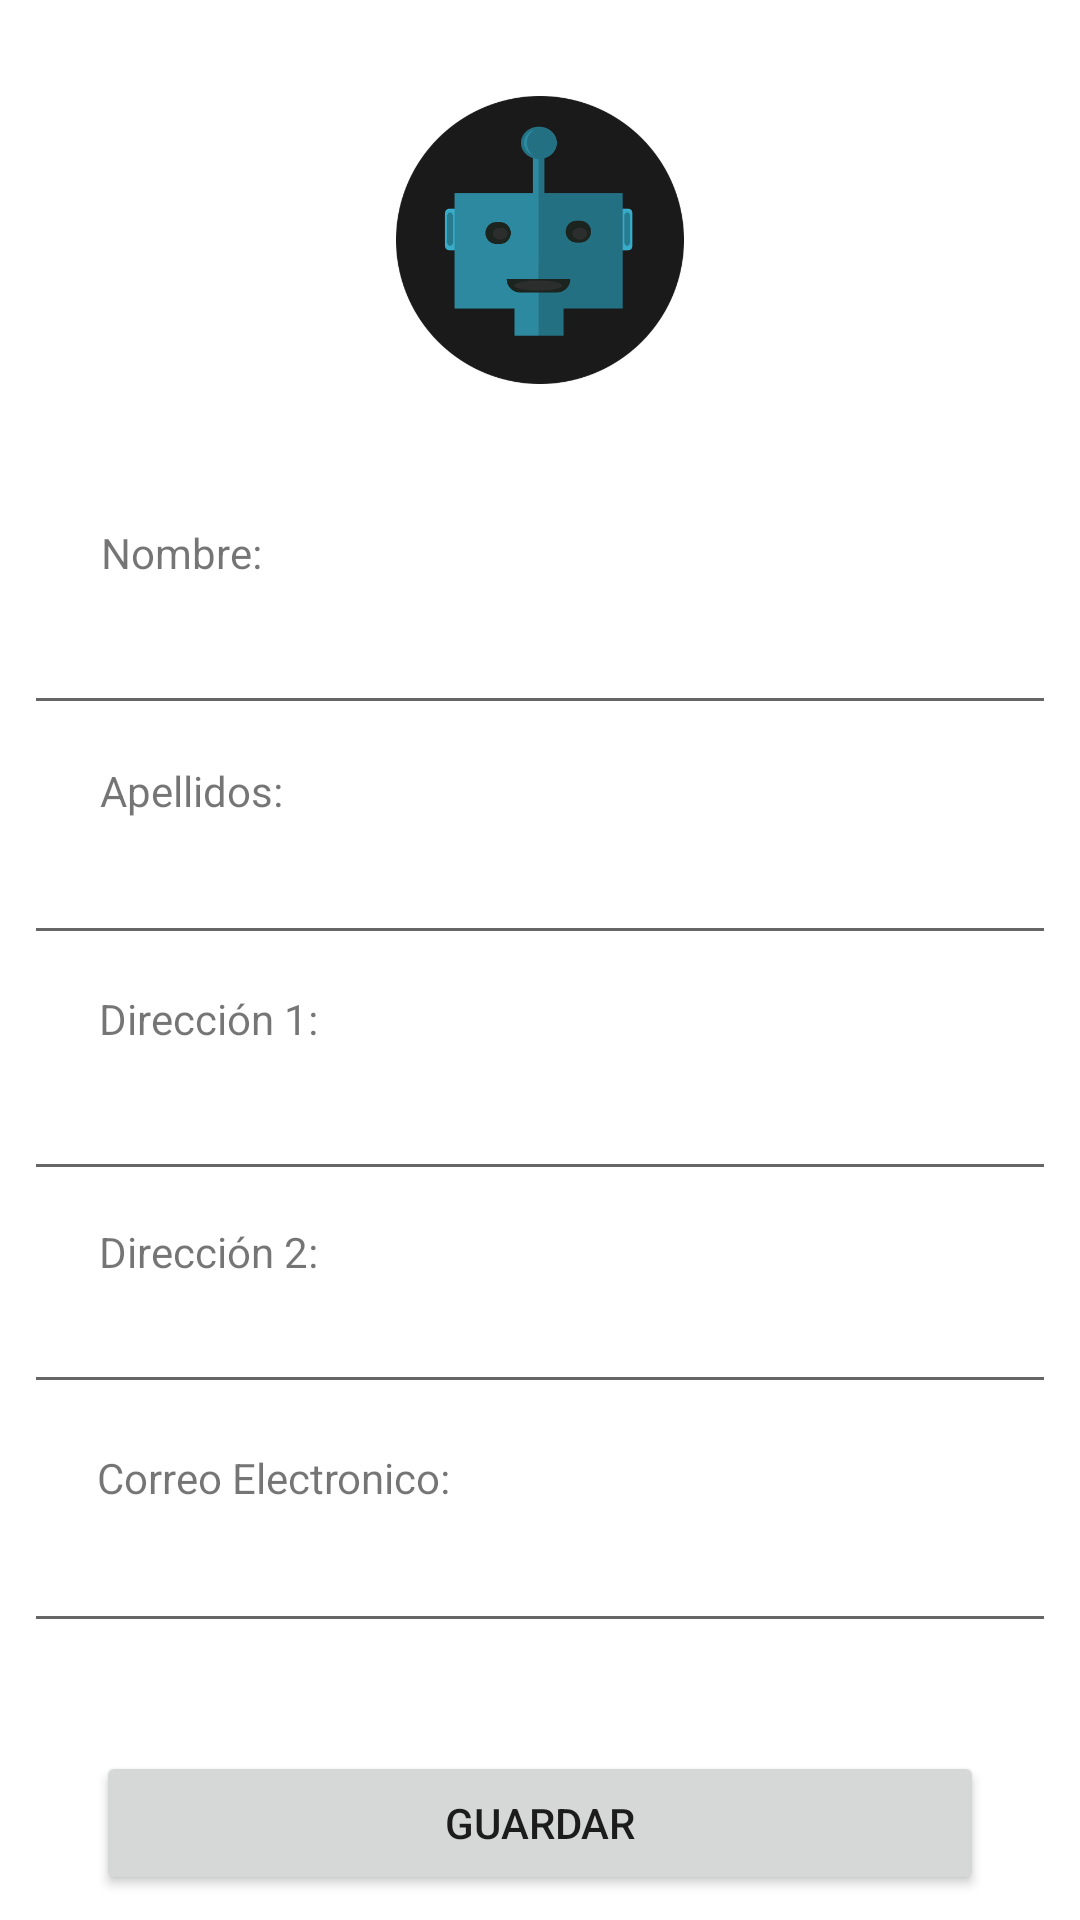

Icon bounding boxes for this 1080×1920 phone screenshot, format bbox(x1, y1, x2, y2):
profile: bbox(396, 96, 684, 384)
